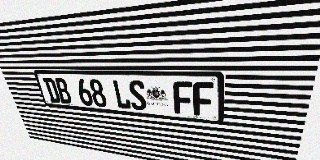6: (75, 78, 94, 106)
8: (88, 79, 108, 107)
B: (54, 78, 73, 104)
D: (42, 78, 61, 103)
F: (193, 82, 214, 117), (173, 81, 193, 115)
L: (112, 80, 132, 110)
S: (127, 80, 147, 111)
